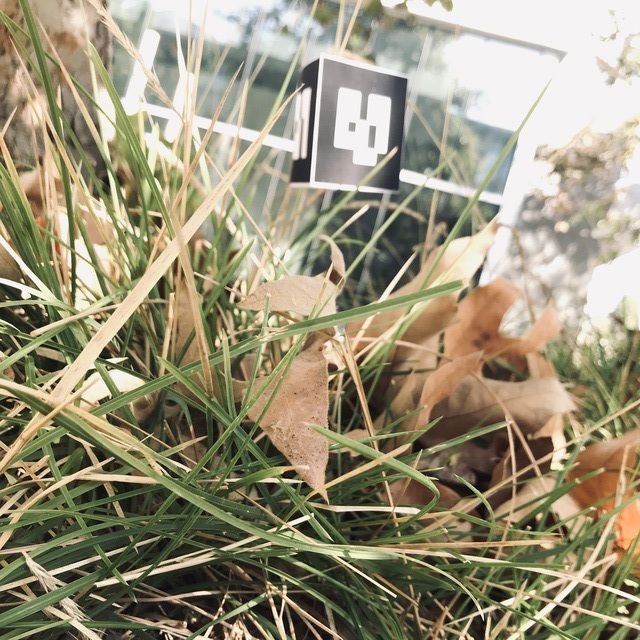ARTag: (290, 56, 410, 194)
